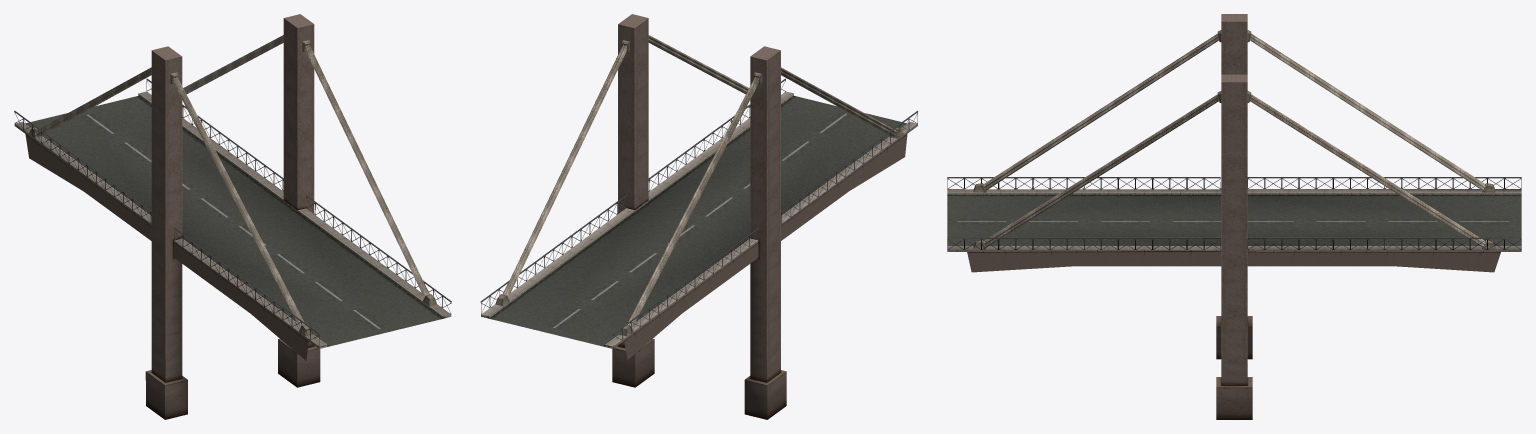
Rendered from MIS1_BIG_BRIDGE.glb.
3 renders of one model, left to right at view 1: azimuth 30°, elevation 25°; view 2: azimuth 150°, elevation 25°; view 3: azimuth 270°, elevation 25°, orthographic. The views are drawn at different scales.
Parts seen in each view (by area): view 1: MIS1_BIG_BRIDGE; view 2: MIS1_BIG_BRIDGE; view 3: MIS1_BIG_BRIDGE.
Part boxes in pixels (x1,y1,x2,y2): MIS1_BIG_BRIDGE: [14, 14, 451, 419]; MIS1_BIG_BRIDGE: [480, 14, 918, 419]; MIS1_BIG_BRIDGE: [947, 14, 1521, 419].
Bounding box in the file's own units: 14.11 × 31 × 48.01.
Materials: 11 (11 with a texture image).
